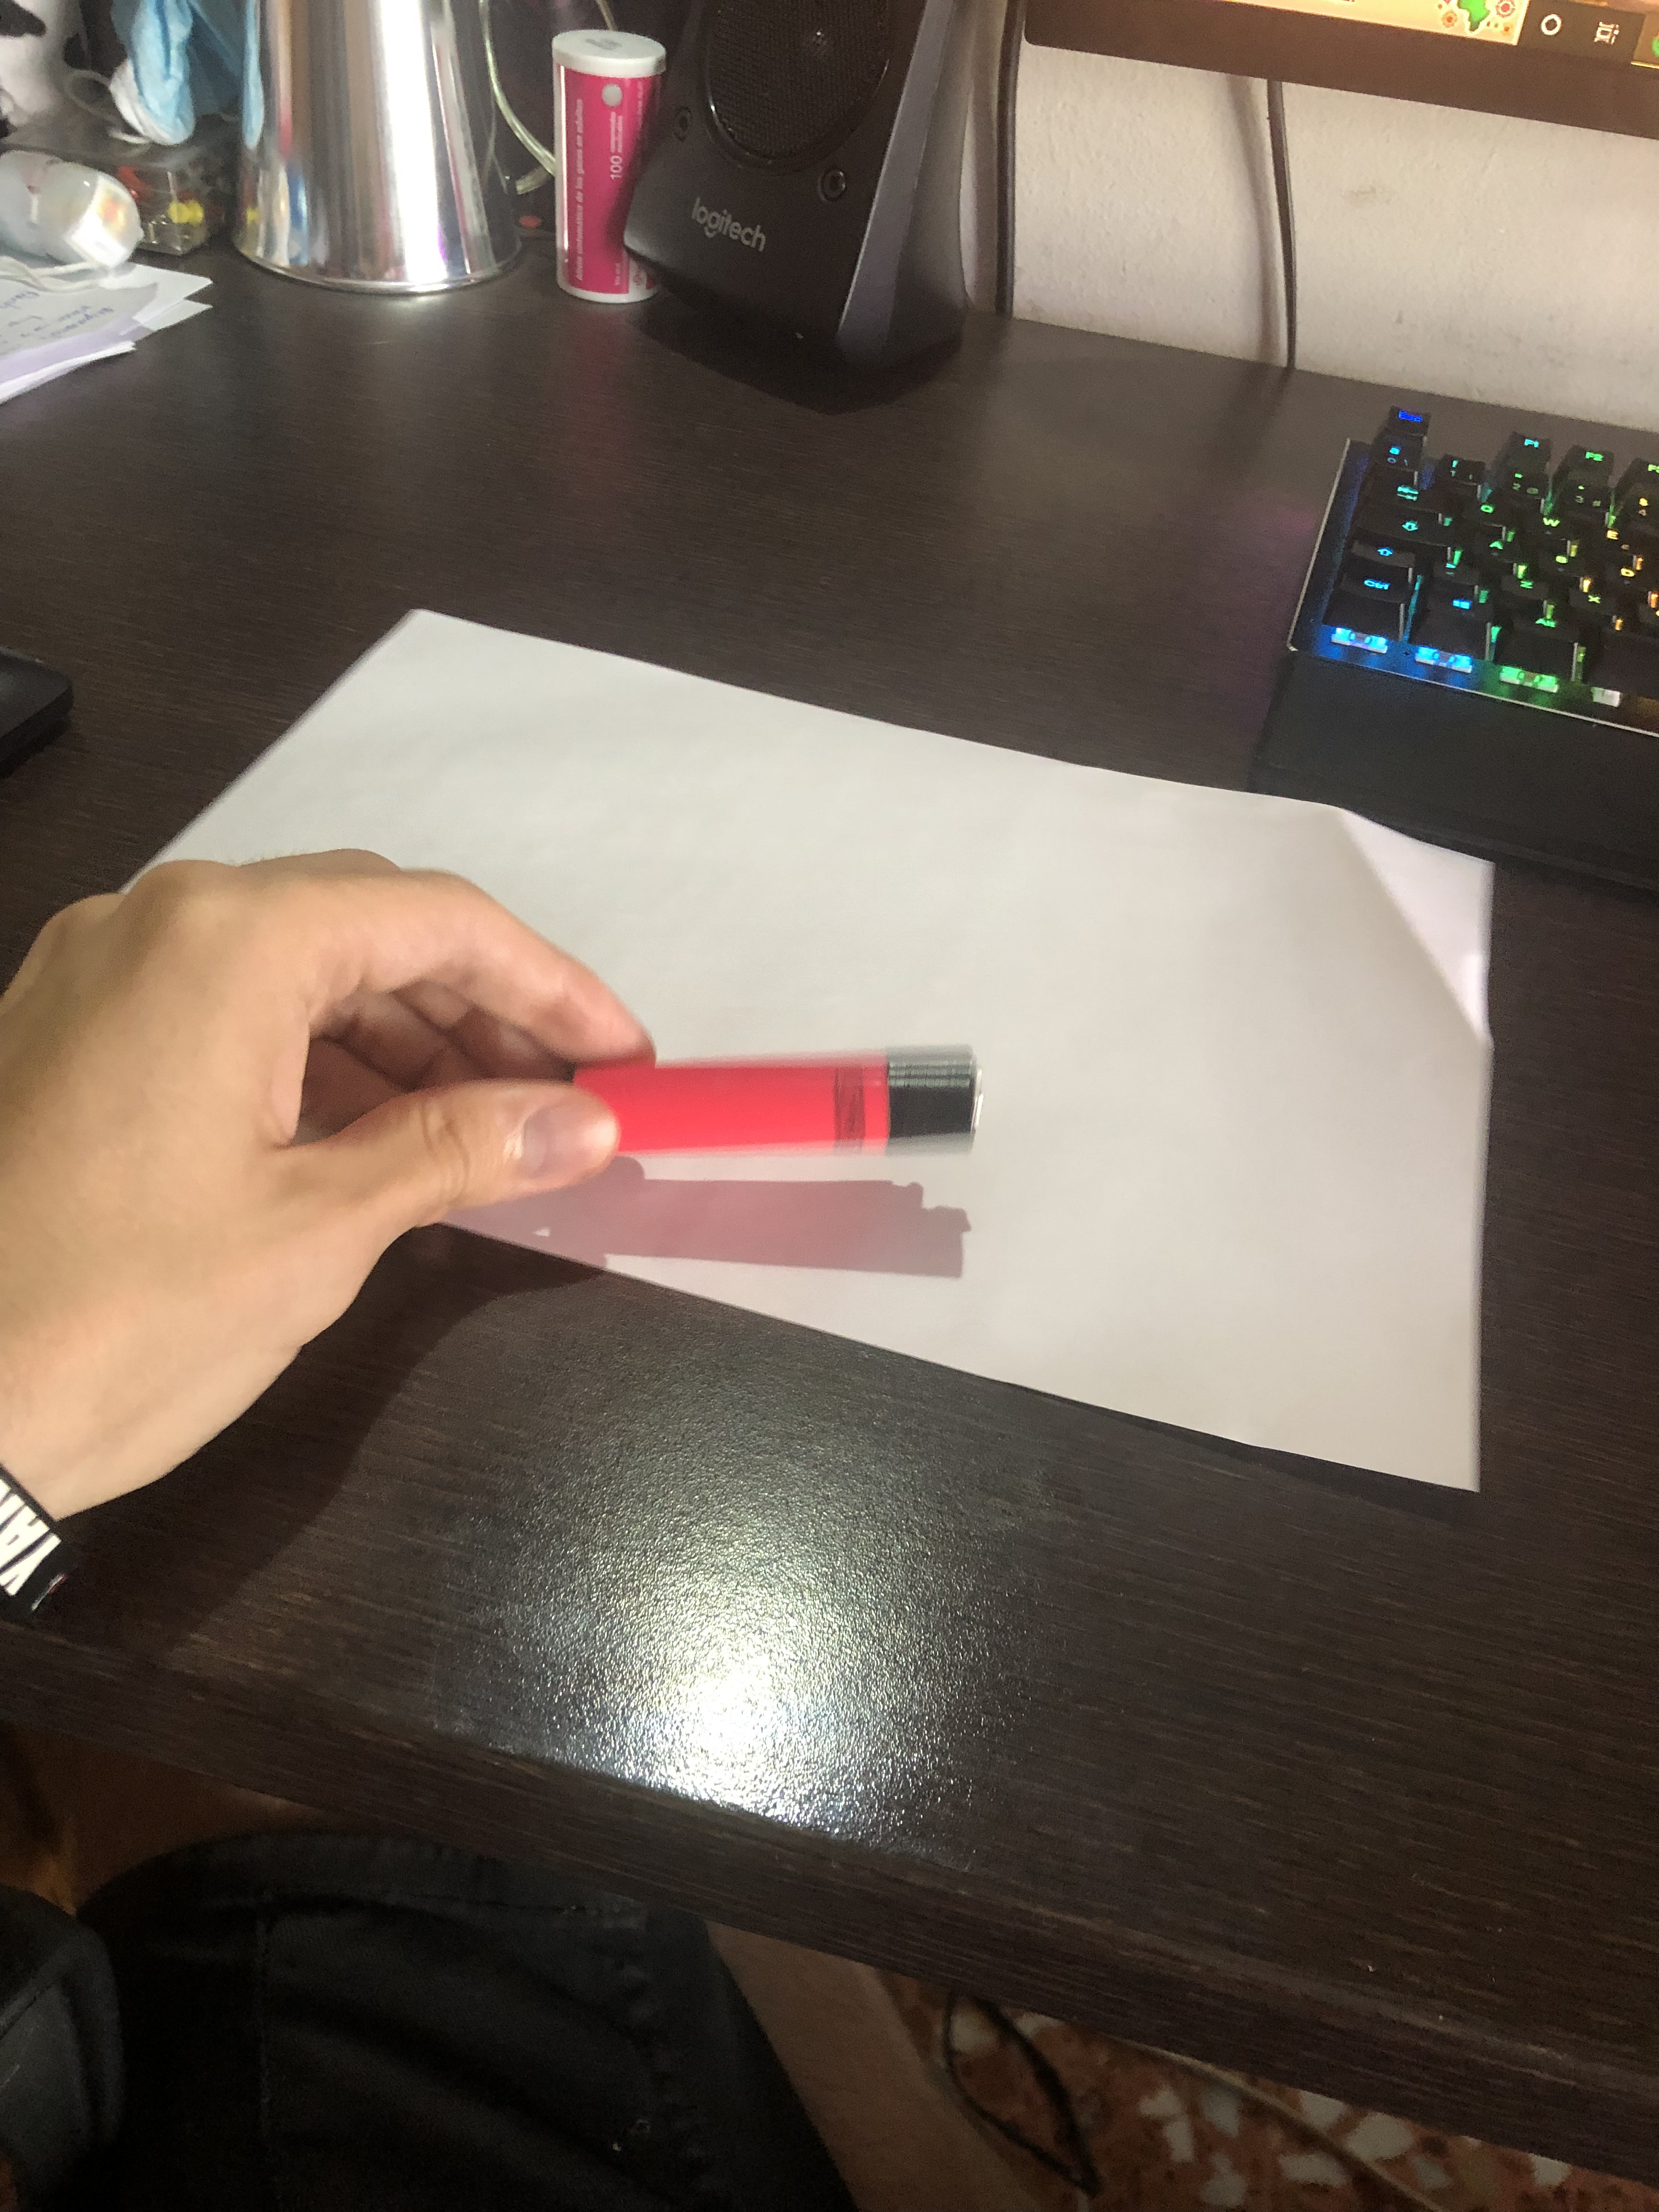Mechero: (538, 1035, 1019, 1155)
